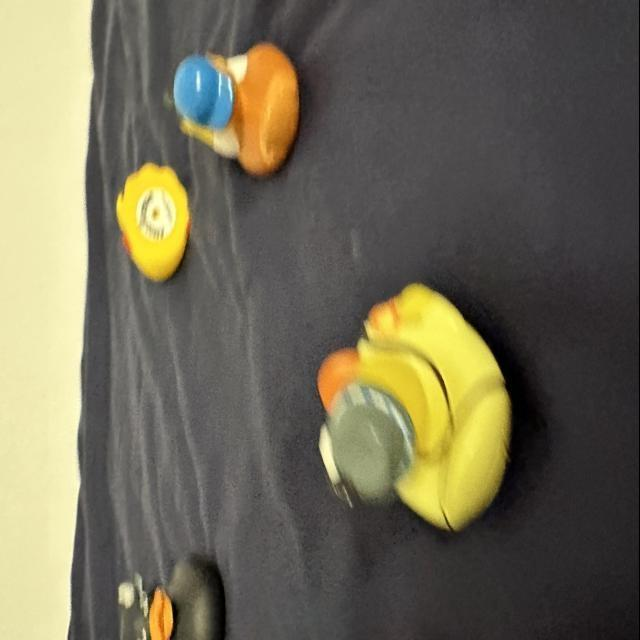rubber-duck: (317, 283, 509, 529), (172, 43, 297, 173), (116, 553, 224, 638), (115, 162, 188, 280)
